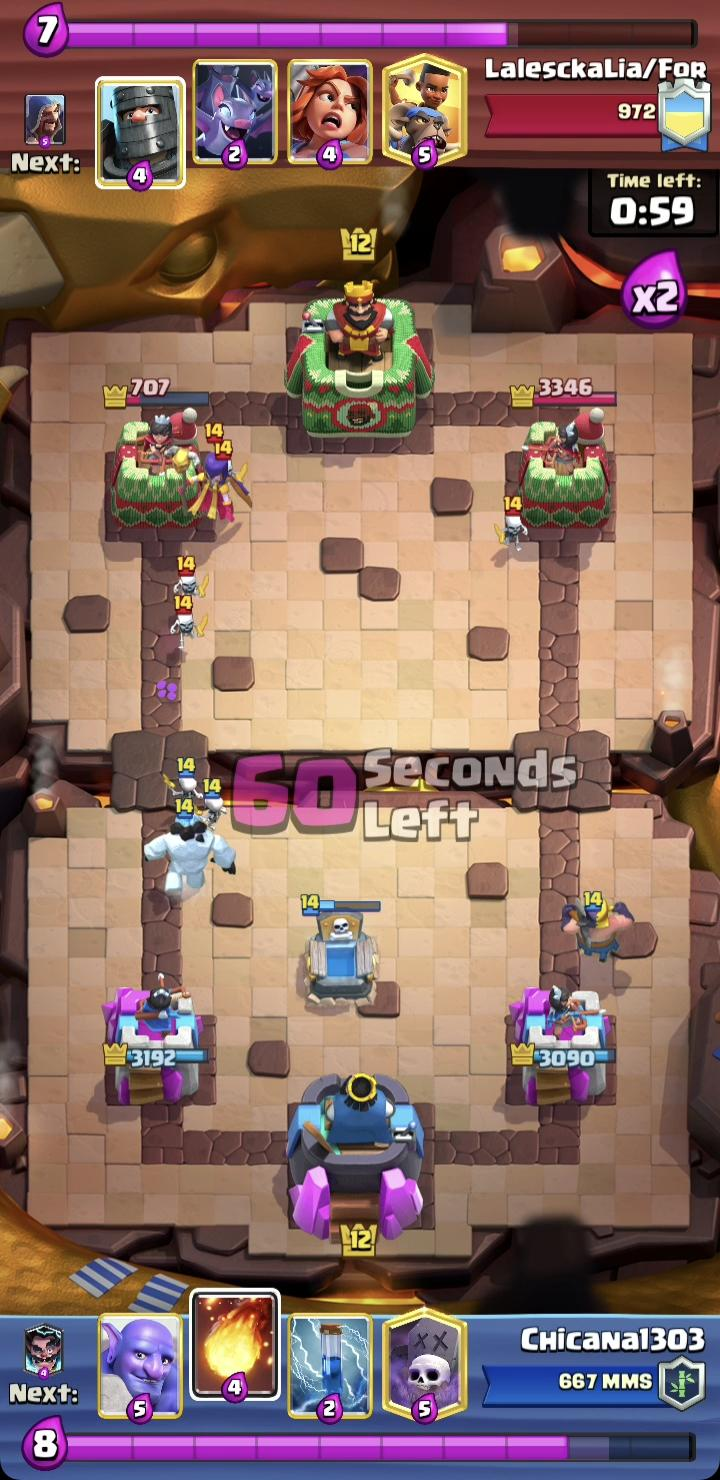ally_executioner: (562, 890, 636, 961)
ally_ice_golem: (144, 797, 237, 895), (165, 772, 204, 816)
ally_skeleton: (167, 757, 207, 816), (197, 778, 231, 830)
ally_tombstone: (300, 892, 381, 1006)
enemy_skeleton: (169, 594, 209, 652), (493, 494, 528, 554), (172, 555, 210, 606), (211, 439, 246, 494)
enemy_witch: (185, 422, 254, 529)
